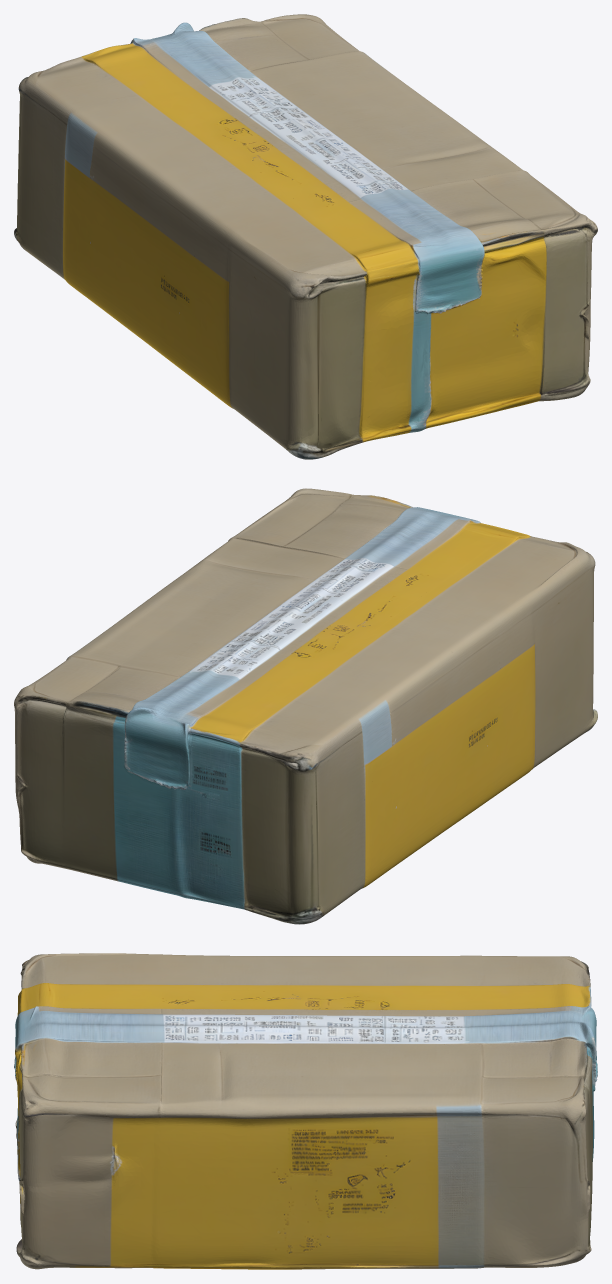
The picture shows the model from 3 angles, top to bottom: view 1: azimuth 30°, elevation 25°; view 2: azimuth 150°, elevation 25°; view 3: azimuth 270°, elevation 25°; orthographic projection.
Parts seen in each view (by area): view 1: node_0; view 2: node_0; view 3: node_0.
Boxes of the visible parts, x1,y1,x2,y2 form: node_0: [14, 14, 597, 459]; node_0: [14, 488, 597, 924]; node_0: [14, 953, 597, 1269].
Size of the model in its own units: 0.616 by 0.3679 by 1.03.
Materials: 1 (1 with a texture image).
